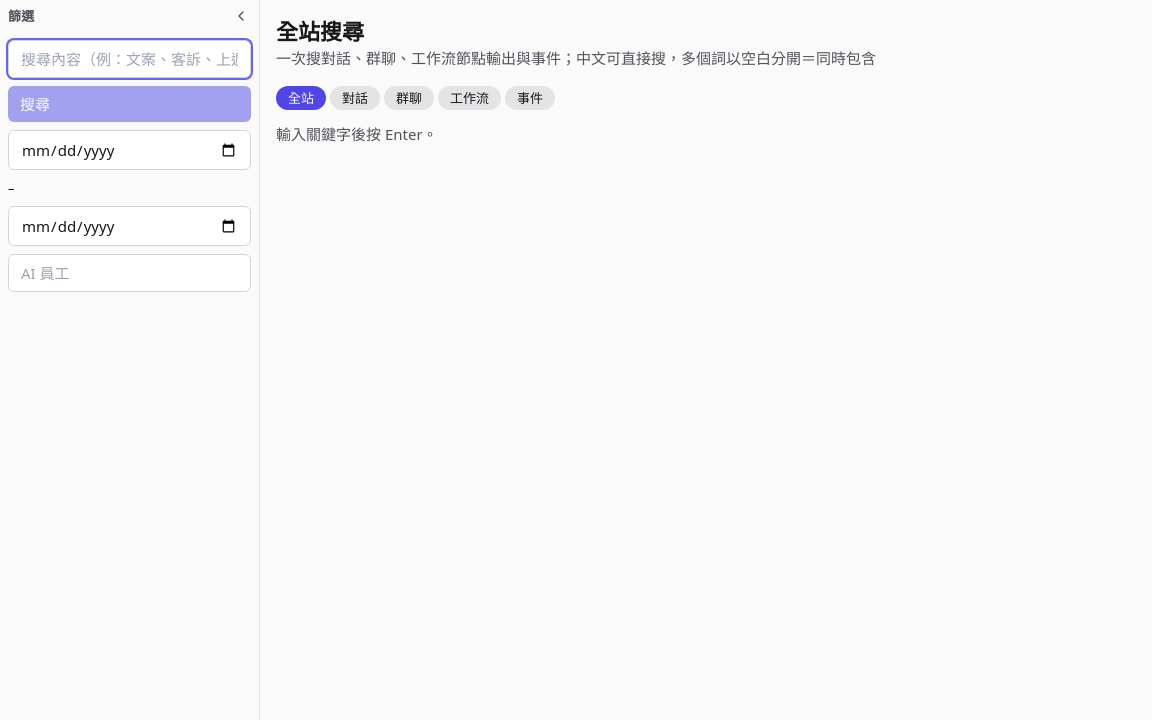
Test: SearchPage › searches on submit, shows scope tabs and links, and filters by scope
The width and height of the screenshot is (1152, 720).
In the field labelled "搜尋內容（例：文案、客訴、上週交辦）": (130, 59) [8, 40, 251, 78], type "文案"
Then press Enter
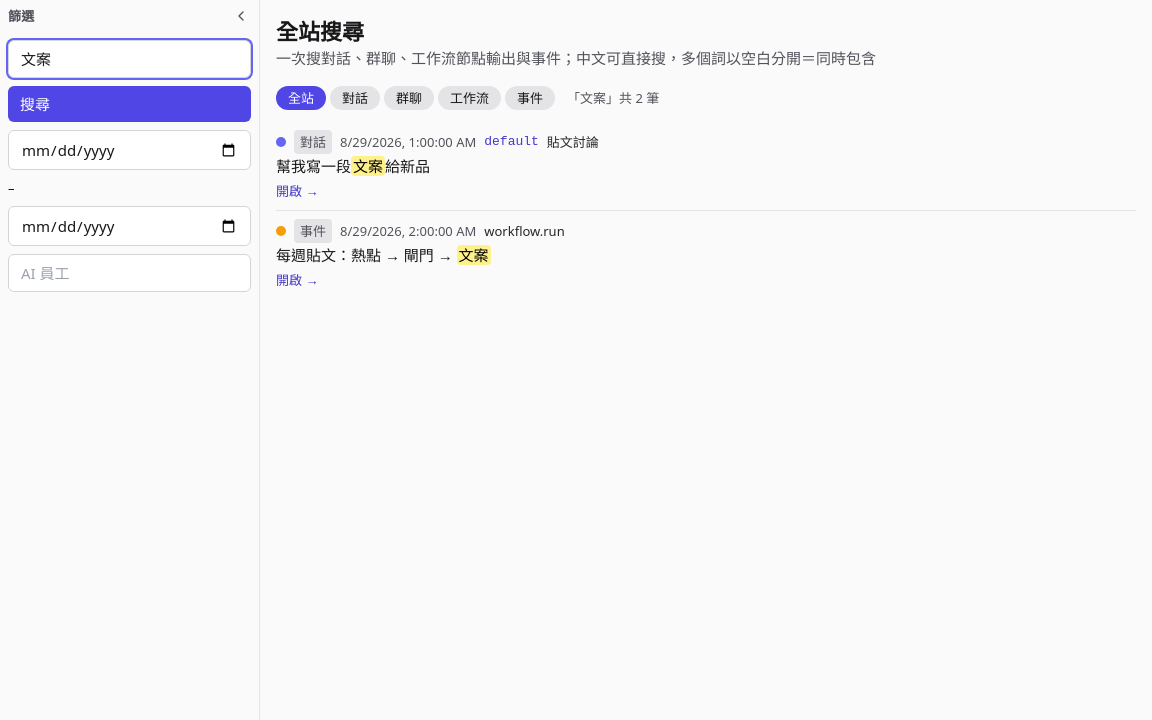
Expected: the list item with test id "hit-chat-msg_1" is shown, [276, 130, 599, 200]
Expected: the list item with test id "hit-events-ev_9" is shown, [276, 210, 1136, 299]
Expected: the text "文案" next to "幫我寫一段" is shown, [353, 156, 383, 176]
scope 分頁
Click the tab with test id "scope-events": (530, 98) [505, 86, 555, 110]
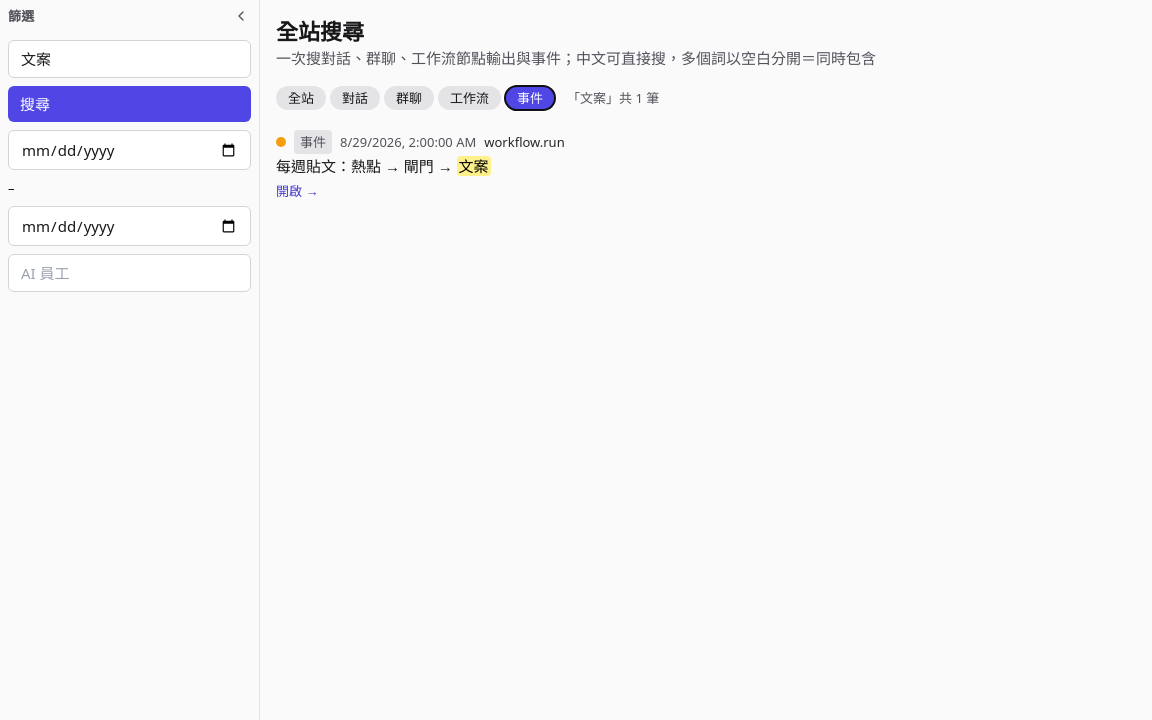
Expected: the list item with test id "hit-events-ev_9" is shown, [276, 130, 565, 200]
Expected: the list item with test id "hit-chat-msg_1" is gone
